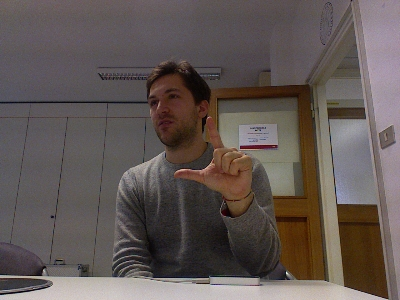枪: (172, 115, 253, 198)
